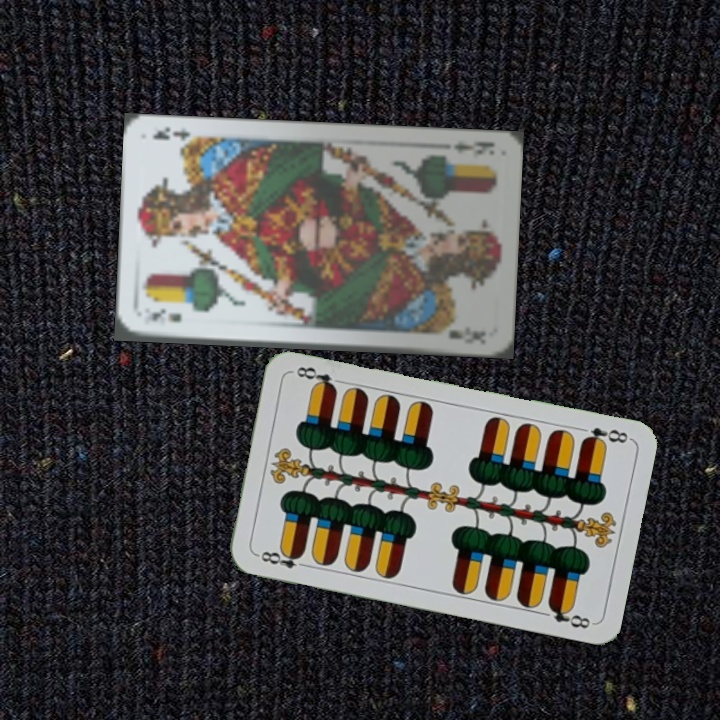E8: (252, 545, 311, 571), (578, 423, 633, 449)
EK: (450, 136, 497, 160), (146, 307, 185, 328)
